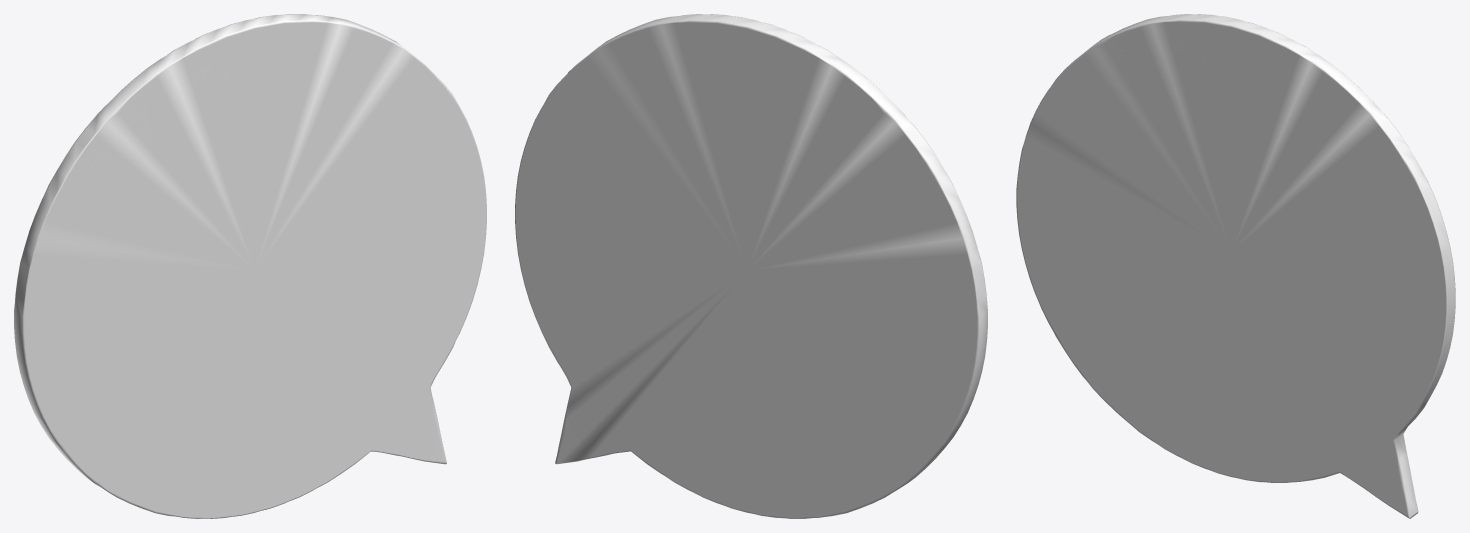
File: Chat2Date.glb
The picture shows the model from 3 angles, left to right: view 1: azimuth 30°, elevation 25°; view 2: azimuth 150°, elevation 25°; view 3: azimuth 330°, elevation 25°; orthographic projection. The views are drawn at different scales.
Bounding box in the file's own units: 1.9 × 1.91 × 0.0665.
1 material, 1 textured.
